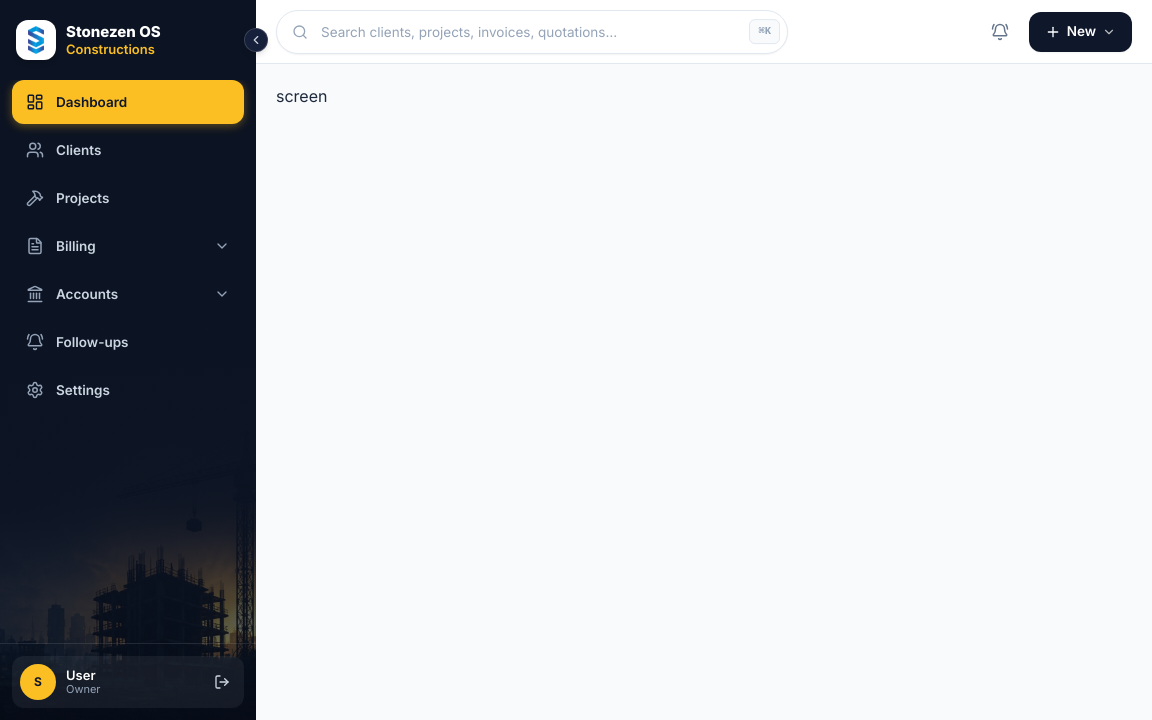
Test: collapsing the sidebar › widens the rail when a group is clicked, since a submenu needs the room
Click the button named "collapse sidebar": click(256, 40) x1=244 y1=28 x2=268 y2=52
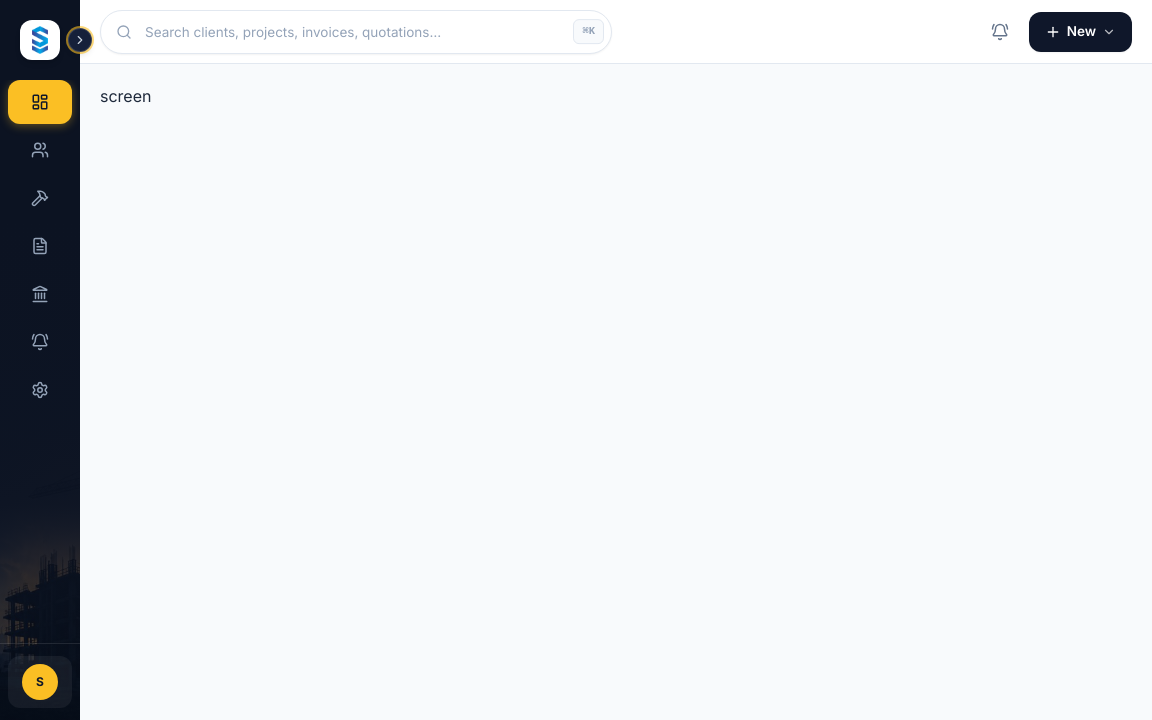
Click the button named "Billing": click(40, 246) x1=8 y1=224 x2=72 y2=268
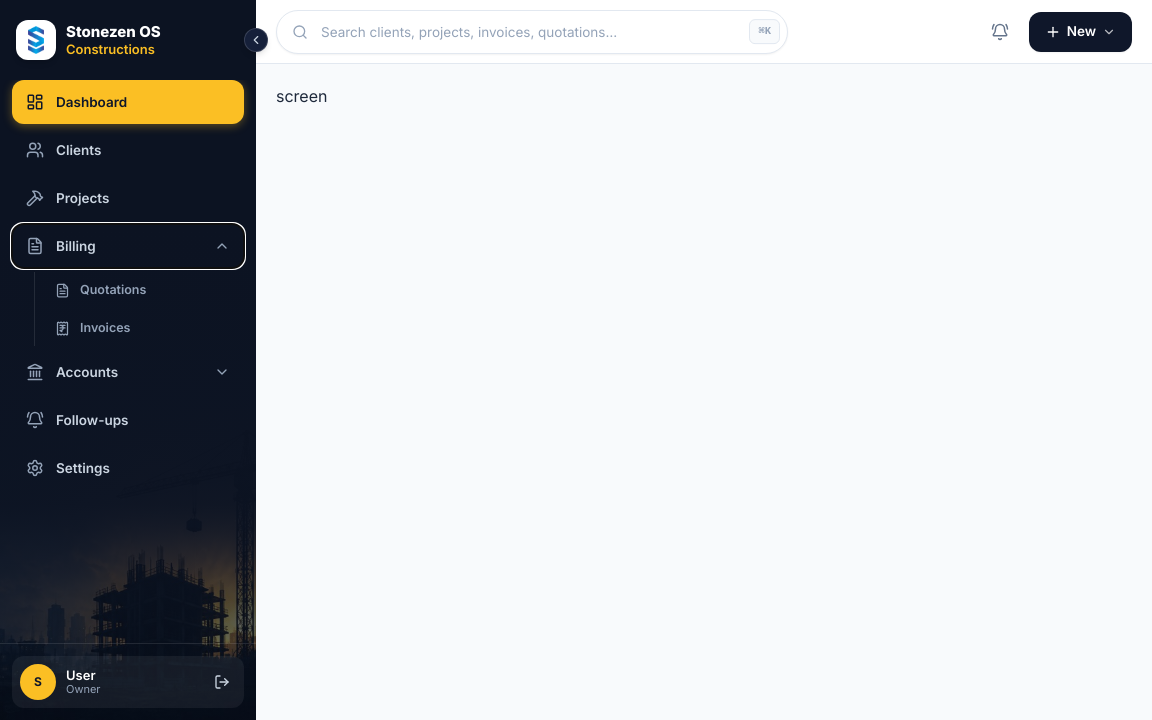
Expected: the button named "collapse sidebar" is shown, x1=244 y1=28 x2=268 y2=52
Expected: the link "Quotations" is shown, x1=55 y1=282 x2=146 y2=298
